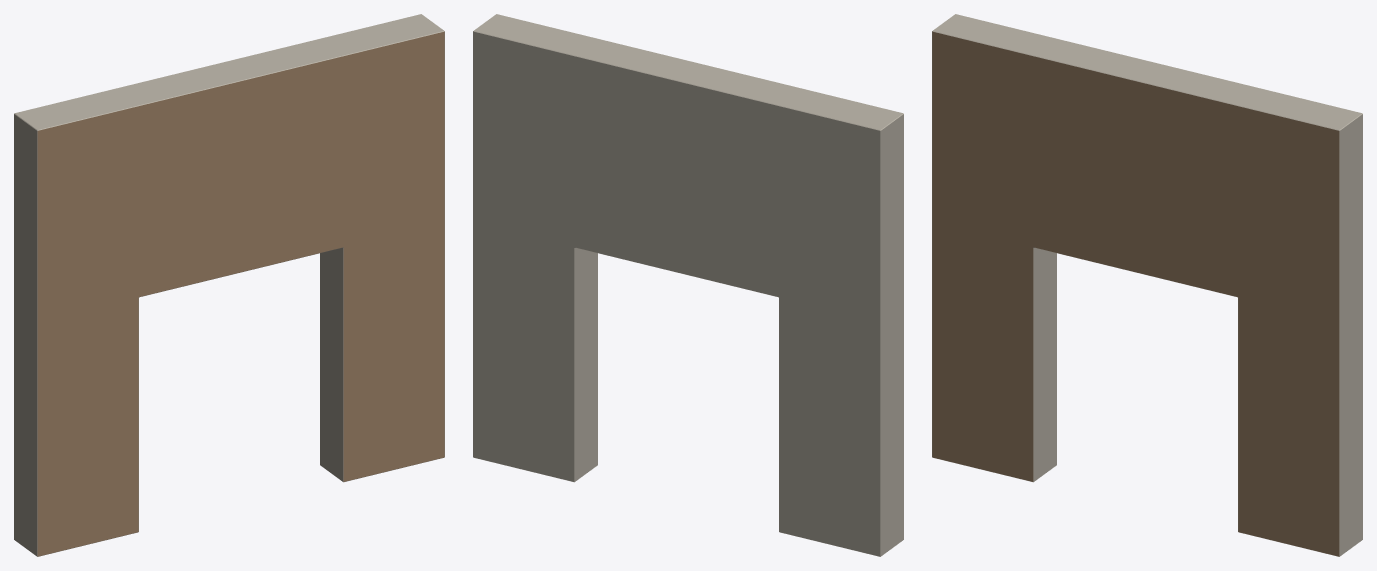
File: arch_wall_ext_door_double_w400_h400.glb
The picture shows the model from 3 angles, left to right: view 1: azimuth 30°, elevation 25°; view 2: azimuth 150°, elevation 25°; view 3: azimuth 330°, elevation 25°; orthographic projection.
Parts seen in each view (by area): view 1: Wall; view 2: Wall; view 3: Wall.
Boxes of the visible parts, box(x1,y1,x2,y2) form: Wall: box(14, 14, 444, 556); Wall: box(473, 14, 903, 556); Wall: box(932, 14, 1362, 556).
Size of what is drawn, in the model's own units: 4 by 4 by 0.4.
